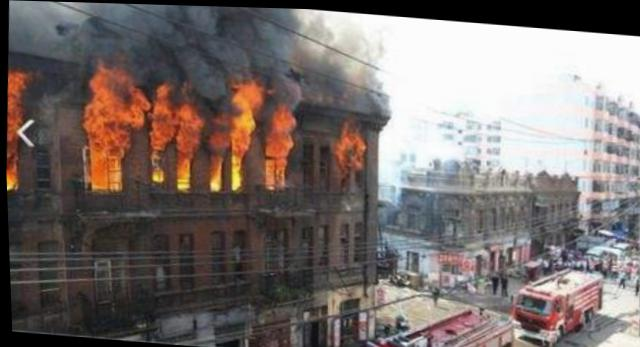fire: (71, 59, 298, 198), (2, 68, 29, 193), (330, 115, 366, 174)
